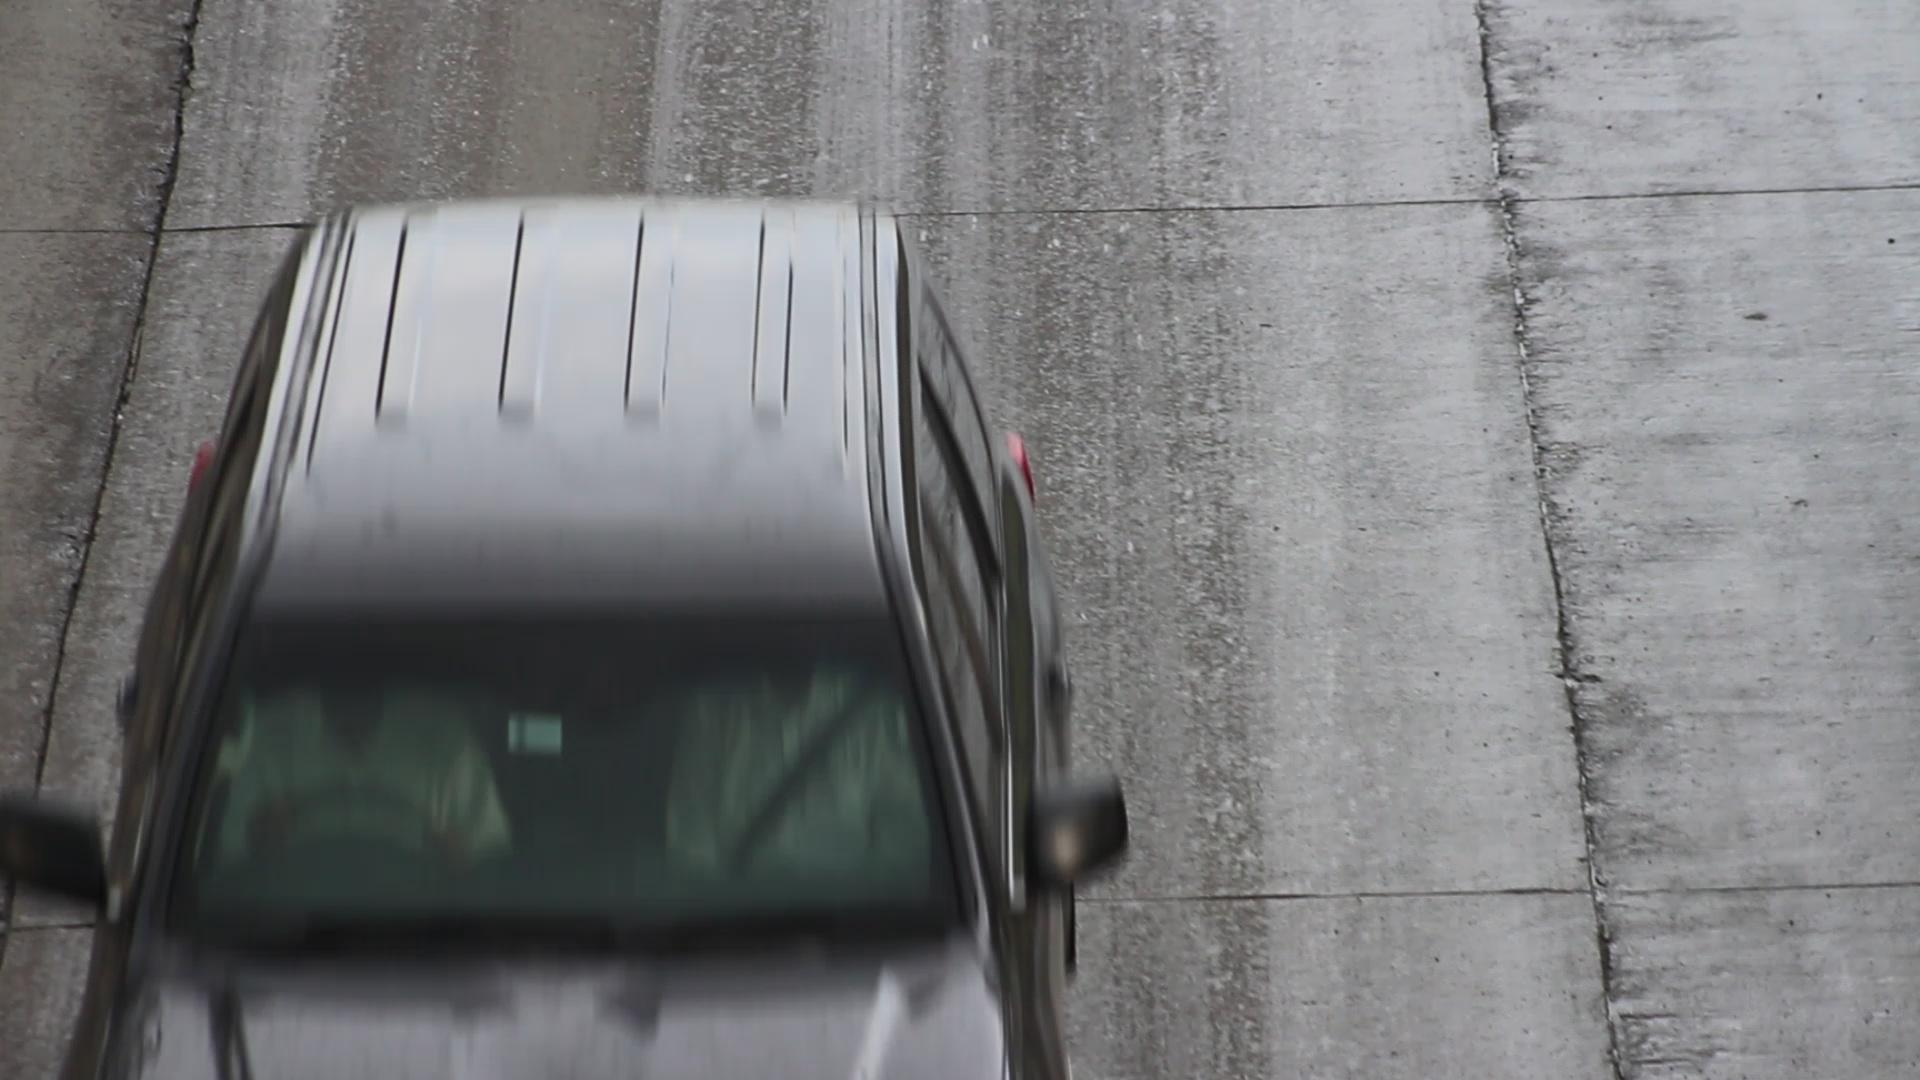windshield: (157, 567, 981, 953)
